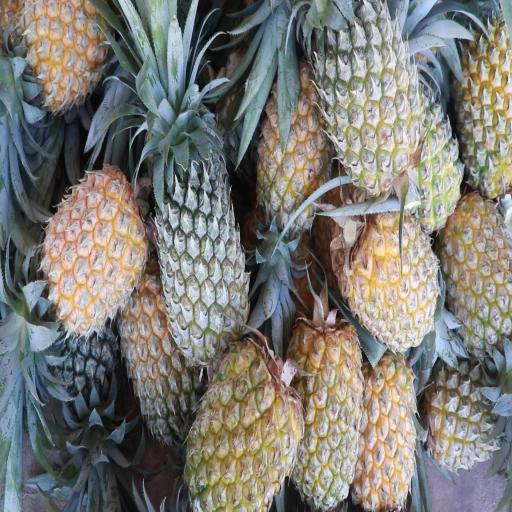------------------------------: (322, 6, 423, 182), (121, 280, 193, 445), (443, 200, 512, 342), (455, 35, 512, 197), (426, 364, 496, 469)
Pineapple - v8 v1: (186, 345, 302, 512), (40, 164, 145, 328), (338, 193, 434, 347), (288, 324, 362, 500), (260, 64, 334, 225), (354, 351, 415, 512), (21, 0, 110, 109)
